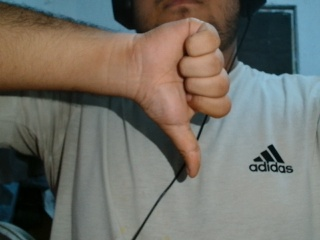Atras: (127, 11, 231, 182)
